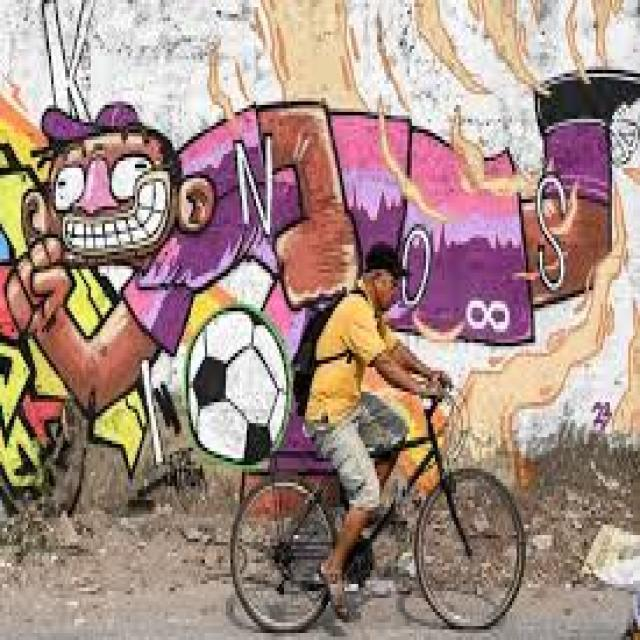-: (6, 69, 640, 473), (0, 92, 152, 494)
